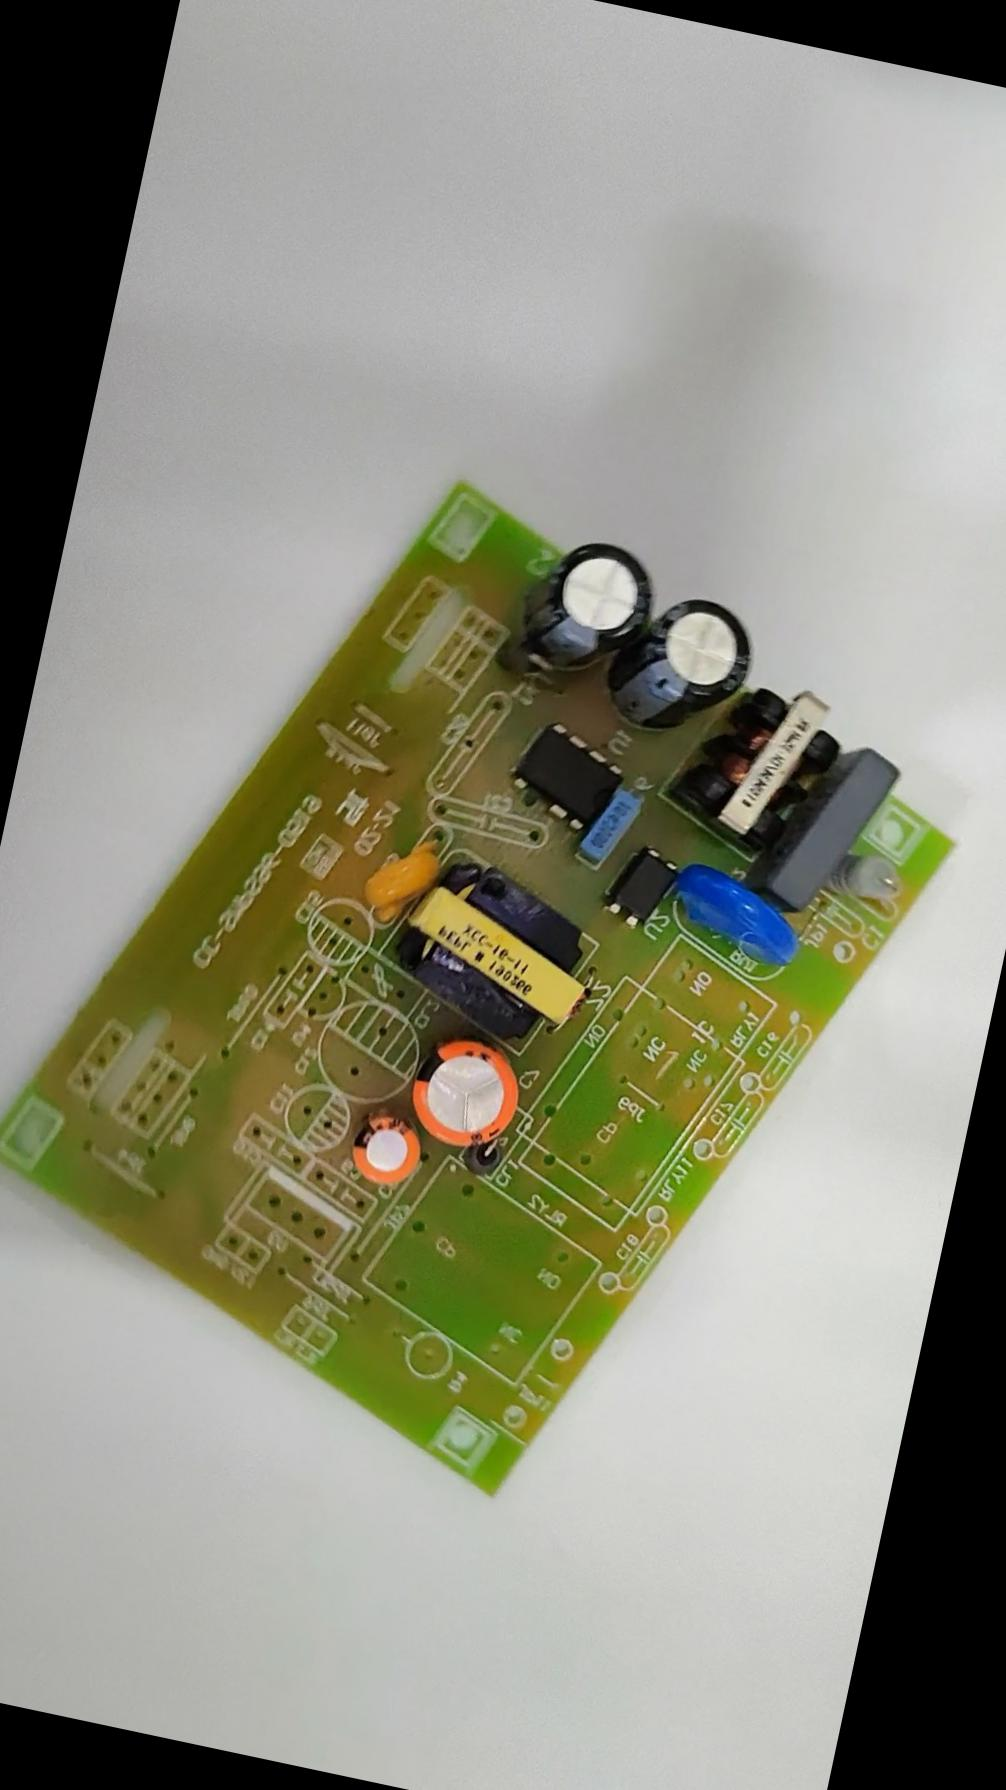Cap1: (397, 1024, 534, 1153)
Cap2: (333, 1102, 430, 1199)
Cap3: (598, 575, 772, 754)
Cap4: (503, 518, 671, 700)
MOSFET: (491, 712, 637, 845)
Mov: (651, 856, 826, 986)
Resistor: (828, 842, 911, 910)
Transformer: (366, 842, 619, 1054), (644, 658, 863, 878)
